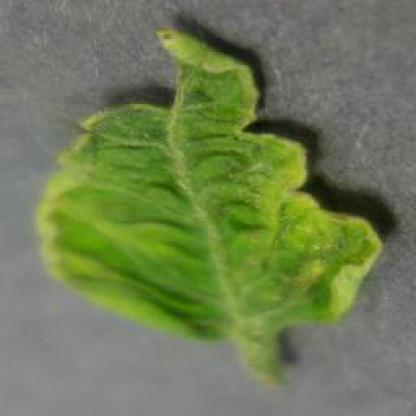bad leaf: (50, 48, 339, 318)
